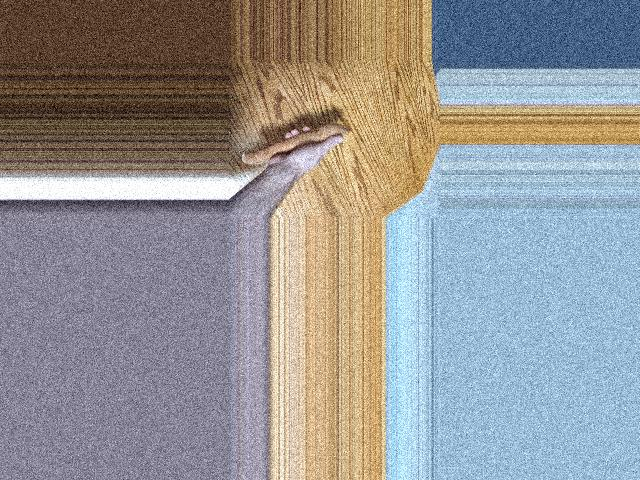sweet_potato: (240, 119, 347, 168)
